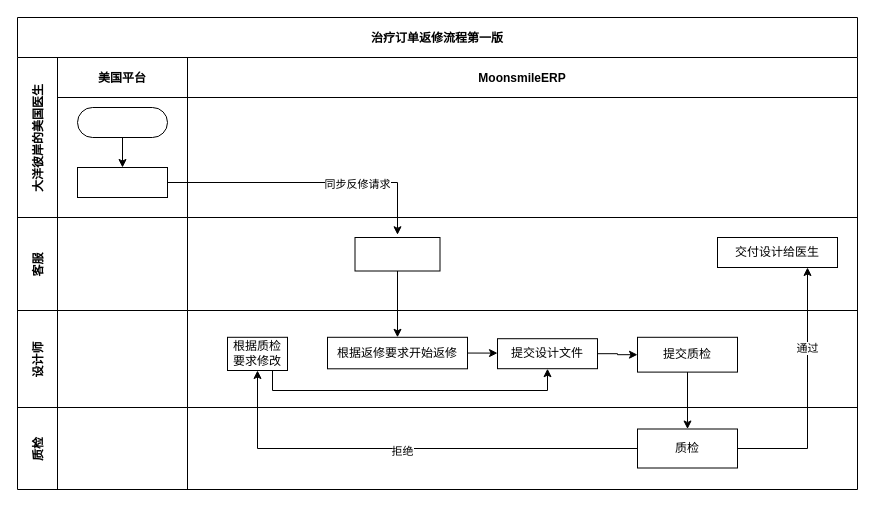
Image size: 875x507. Some labels were removed from this diagram. The centre of each missing label's shape, as x and y in pixels:
"提交返修" goes at pixel 122 182.
"翻译返修要求" goes at pixel 397 253.
"输入返修理由" goes at pixel 122 122.
